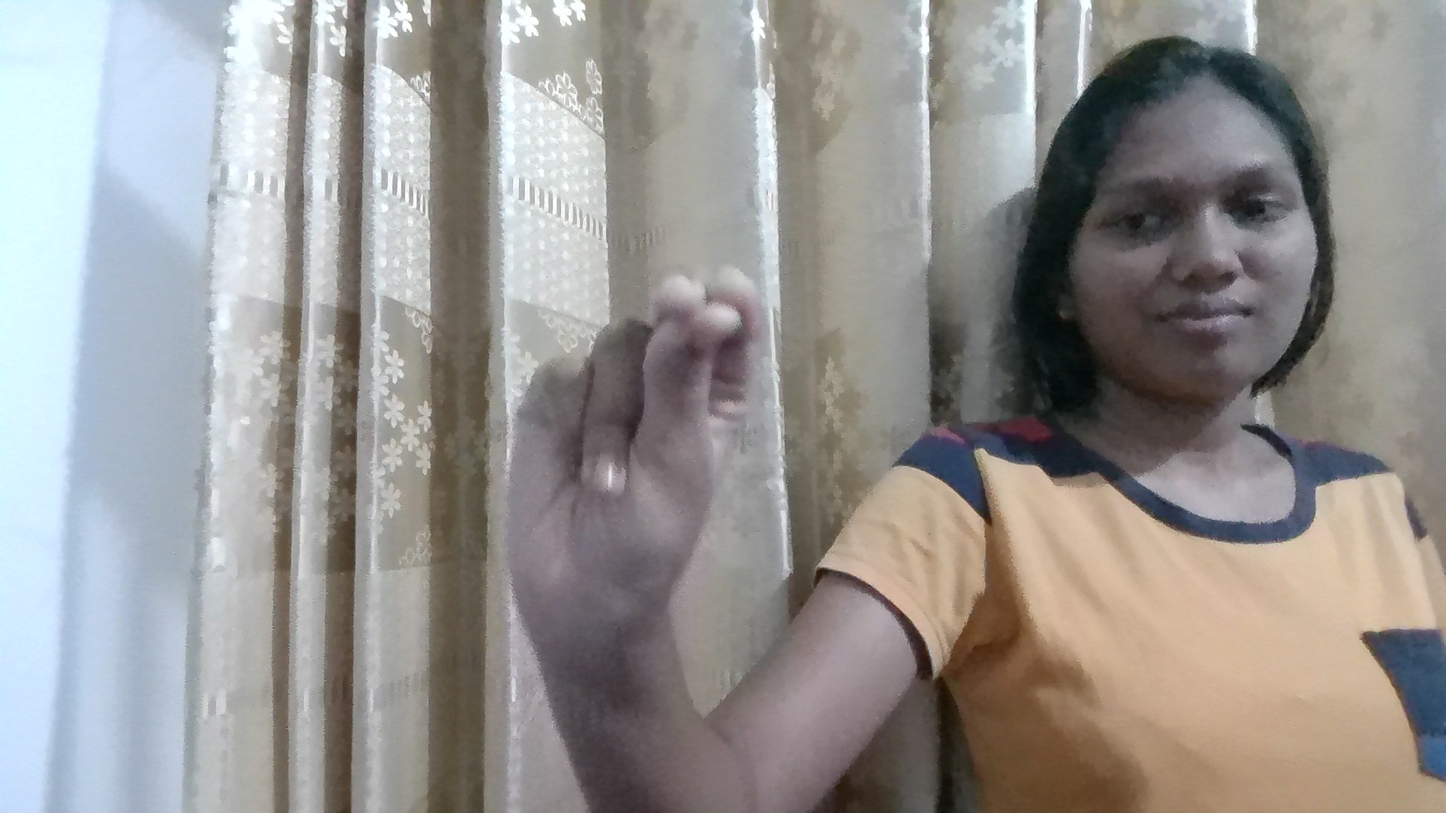No: (454, 215, 861, 753)
